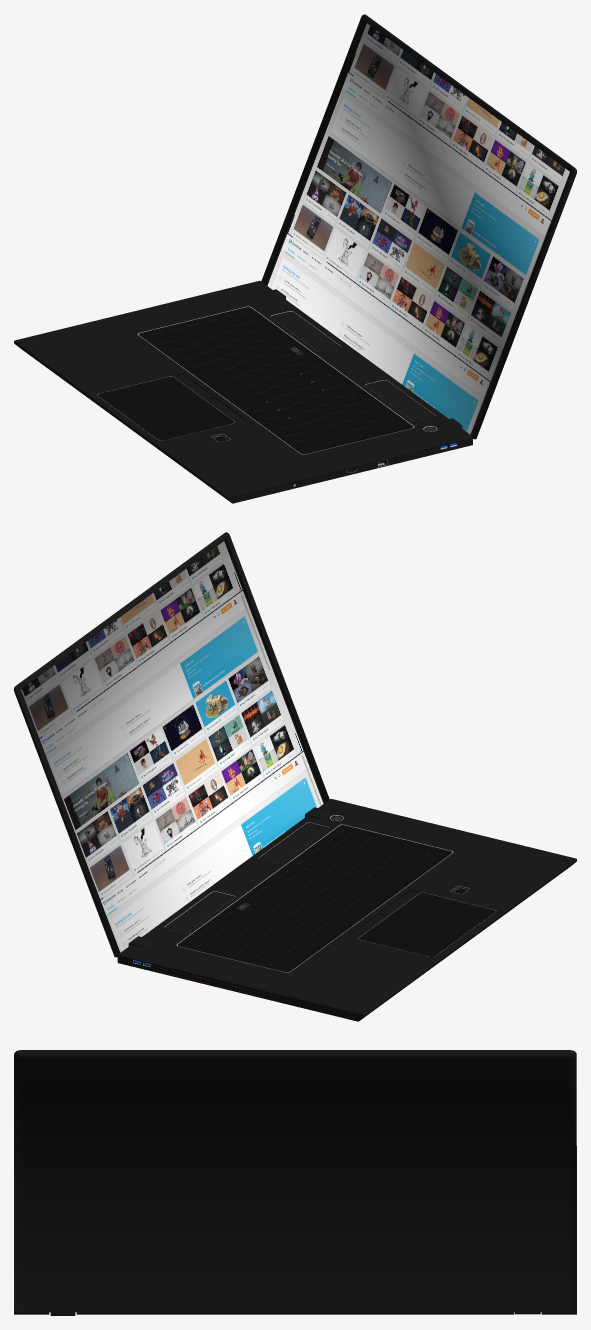
File: room.glb
3 renders of one model, top to bottom at view 1: azimuth 30°, elevation 25°; view 2: azimuth 150°, elevation 25°; view 3: azimuth 270°, elevation 25°, orthographic. The views are drawn at different scales.
Parts seen in each view (by area): view 1: Object_3, Object_9, Object_11, Object_10, Object_8, Object_5, Object_6; view 2: Object_3, Object_9, Object_11, Object_10, Object_8, Object_6, Object_5; view 3: Object_10, Object_9.
Part boxes in pixels (x1,y1,x2,y2): Object_3: (267, 23, 569, 434); Object_9: (14, 280, 472, 503); Object_11: (98, 307, 413, 454); Object_10: (14, 14, 576, 503); Object_8: (150, 311, 435, 445); Object_5: (97, 306, 457, 486); Object_6: (271, 311, 434, 420); Object_3: (21, 541, 323, 952); Object_9: (117, 799, 575, 1021); Object_11: (177, 825, 495, 972); Object_10: (14, 532, 576, 1015); Object_8: (188, 816, 438, 964); Object_6: (167, 823, 328, 931); Object_5: (133, 815, 496, 972); Object_10: (14, 1050, 576, 1312); Object_9: (14, 1146, 576, 1315).
Bounding box in the file's own units: 3.61 × 2.46 × 3.8.
7 materials, 3 textured.
